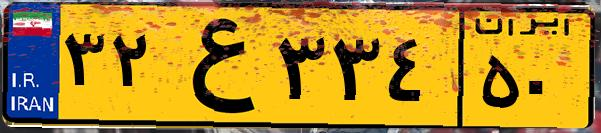0: (525, 38, 570, 115)
2: (110, 28, 158, 98)
3: (270, 28, 330, 110), (330, 28, 385, 110), (57, 26, 110, 100)
4: (385, 28, 445, 110)
5: (475, 38, 525, 113)
ع: (158, 12, 270, 120)
